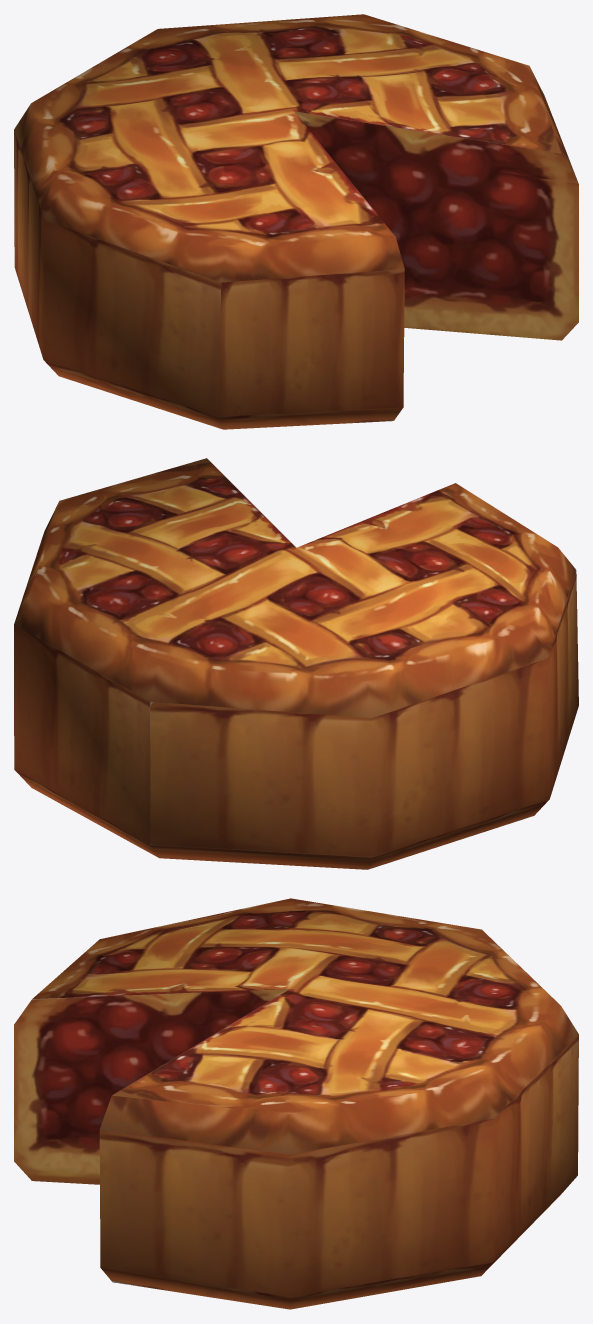
File: Pie_01.glb
3 renders of one model, top to bottom at view 1: azimuth 30°, elevation 25°; view 2: azimuth 150°, elevation 25°; view 3: azimuth 270°, elevation 25°, orthographic.
Visible parts, largest first — view 1: Pie_01; view 2: Pie_01; view 3: Pie_01.
Boxes of the visible parts, x1=… form: Pie_01: x1=14, y1=14, x2=578, y2=429; Pie_01: x1=14, y1=458, x2=578, y2=869; Pie_01: x1=14, y1=898, x2=578, y2=1309.
Bounding box in the file's own units: 1.36 × 0.5383 × 1.33.
1 material, 1 textured.
